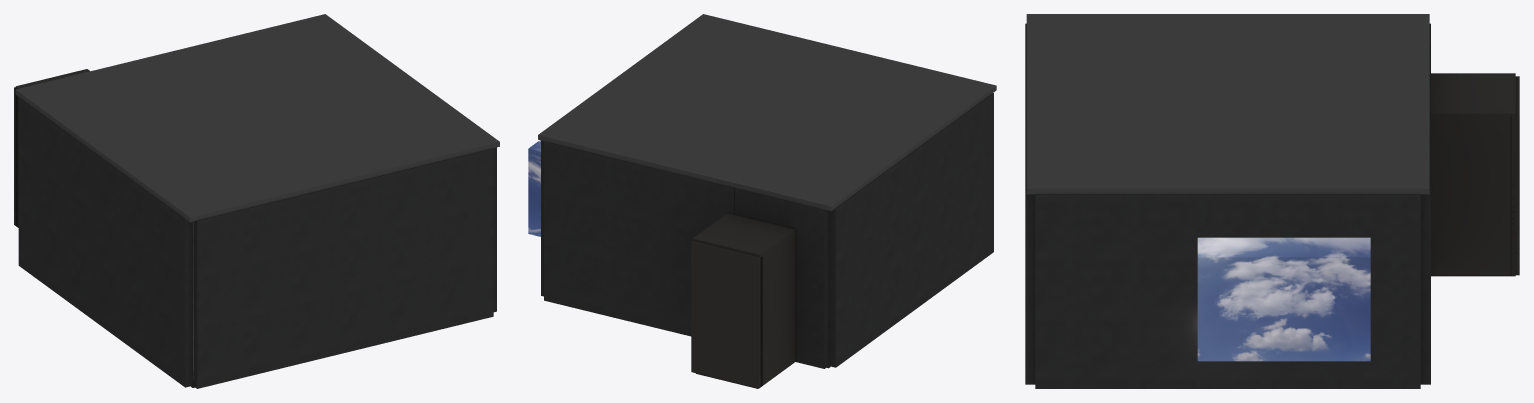
Rendered from living-room.glb.
3 renders of one model, left to right at view 1: azimuth 30°, elevation 25°; view 2: azimuth 150°, elevation 25°; view 3: azimuth 270°, elevation 25°, orthographic. The views are drawn at different scales.
Parts seen in each view (by area): view 1: Interior ceiling, Smooth mineral wall, Smooth mineral wall.001, Window wall right pier, Hall return wall; view 2: Interior ceiling, Smooth mineral wall.001, Door wall right pier, Hall rear wall, Door wall left pier, Hall return wall, Hall ceiling, Door wall header, WindowSky, Window wall left pier; view 3: Interior ceiling, Window wall right pier, WindowSky, Hall return wall.001, Window wall left pier, Window header, Window apron, Hall ceiling, Smooth mineral wall, Door wall right pier, Hall rear wall.
Boxes of the visible parts, bbox=[...] form: Interior ceiling: bbox=[15, 14, 499, 222]; Smooth mineral wall: bbox=[193, 148, 493, 388]; Smooth mineral wall.001: bbox=[18, 97, 192, 387]; Window wall right pier: bbox=[493, 147, 496, 312]; Hall return wall: bbox=[15, 89, 18, 227]; Interior ceiling: bbox=[538, 14, 996, 211]; Smooth mineral wall.001: bbox=[828, 93, 993, 367]; Door wall right pier: bbox=[544, 141, 734, 336]; Hall rear wall: bbox=[691, 241, 762, 388]; Door wall left pier: bbox=[788, 201, 828, 368]; Hall return wall: bbox=[760, 232, 795, 386]; Hall ceiling: bbox=[693, 213, 795, 257]; Door wall header: bbox=[735, 188, 788, 227]; WindowSky: bbox=[528, 140, 540, 236]; Window wall left pier: bbox=[541, 140, 543, 296]; Interior ceiling: bbox=[1026, 14, 1429, 194]; Window wall right pier: bbox=[1035, 194, 1200, 388]; WindowSky: bbox=[1197, 237, 1370, 361]; Hall return wall.001: bbox=[1431, 116, 1515, 275]; Window wall left pier: bbox=[1367, 194, 1420, 388]; Window header: bbox=[1201, 194, 1367, 237]; Window apron: bbox=[1201, 361, 1367, 388]; Hall ceiling: bbox=[1431, 73, 1515, 116]; Smooth mineral wall: bbox=[1025, 23, 1035, 384]; Door wall right pier: bbox=[1420, 77, 1430, 384]; Hall rear wall: bbox=[1512, 76, 1519, 275].
Size of the model in its own units: 5.94 by 2.87 by 6.35.
7 materials, 3 textured.
